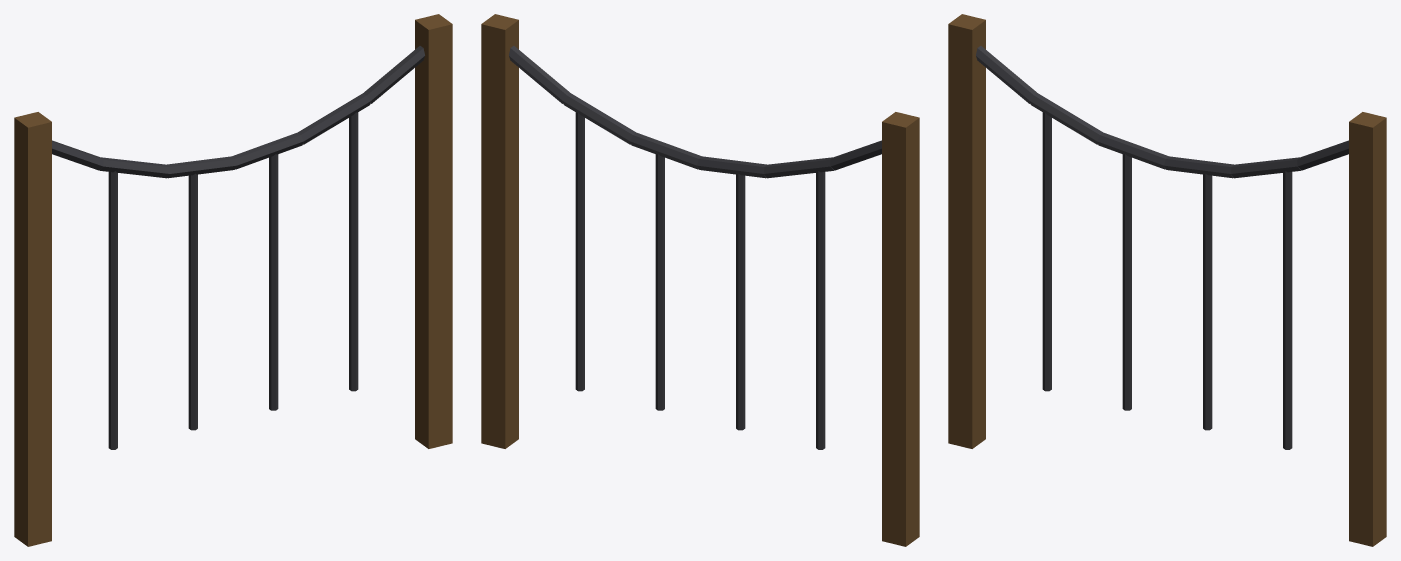
Rendered from railing.obj.
3 views of the same model, side by side, from view 1: azimuth 30°, elevation 25°; view 2: azimuth 150°, elevation 25°; view 3: azimuth 330°, elevation 25° (orthographic).
Visible parts, largest first — view 1: Railing; view 2: Railing; view 3: Railing.
Boxes of the visible parts, <box> form: Railing: <box>14,14,452,546</box>; Railing: <box>481,14,919,546</box>; Railing: <box>948,14,1386,546</box>.
Size of the model in its own units: 1.06 by 1 by 0.06.
